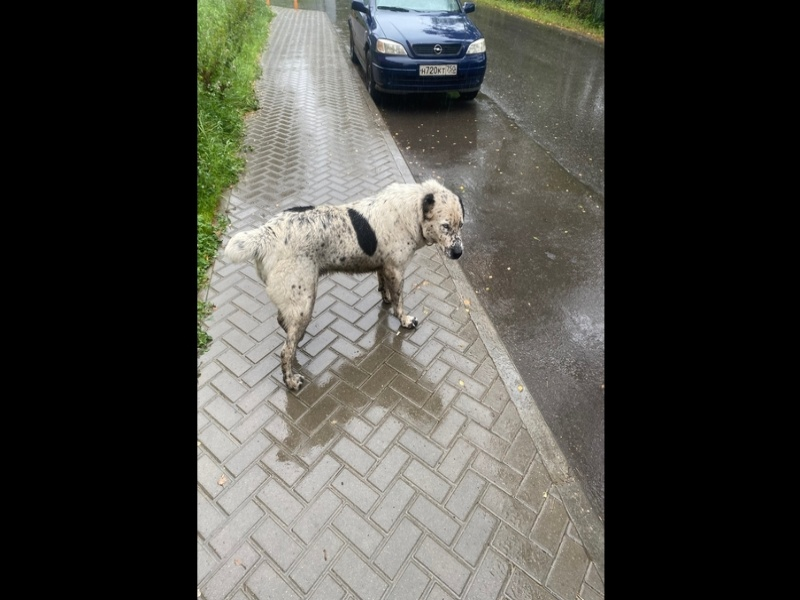dog: (228, 173, 473, 401)
